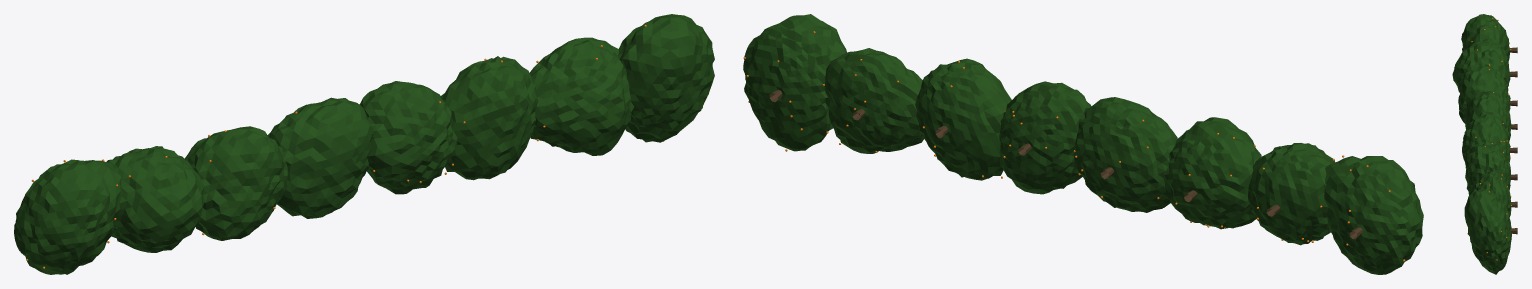
File: citrus_run8_b_fruit.obj
The picture shows the model from 3 angles, left to right: view 1: azimuth 30°, elevation 25°; view 2: azimuth 150°, elevation 25°; view 3: azimuth 270°, elevation 25°; orthographic projection. The views are drawn at different scales.
Visible parts, largest first — view 1: canopy; view 2: canopy, trunk, fruit; view 3: canopy, trunk, fruit.
Boxes of the visible parts, box(x1,y1,x2,y2) form: canopy: box(14, 14, 714, 274); canopy: box(743, 14, 1423, 274); trunk: box(769, 90, 1362, 239); fruit: box(743, 31, 1405, 261); canopy: box(1452, 14, 1511, 274); trunk: box(1509, 47, 1517, 234); fruit: box(1471, 18, 1511, 274).
Size of the model in its own units: 24.27 by 4.46 by 3.24.
